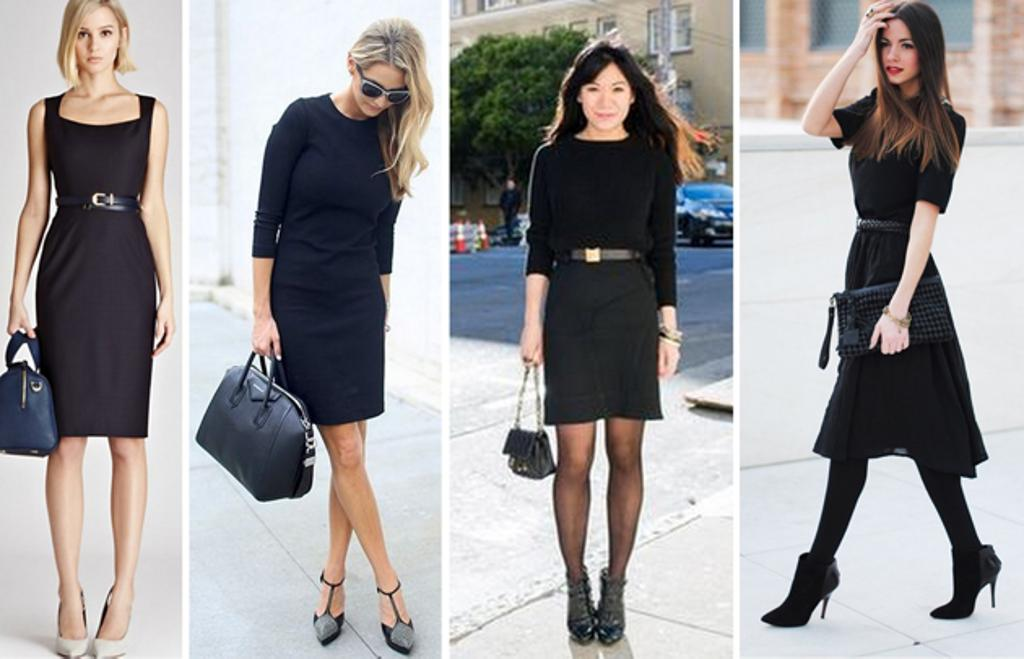face: (581, 66, 629, 128), (72, 10, 120, 71), (881, 22, 921, 82), (353, 69, 404, 115)
